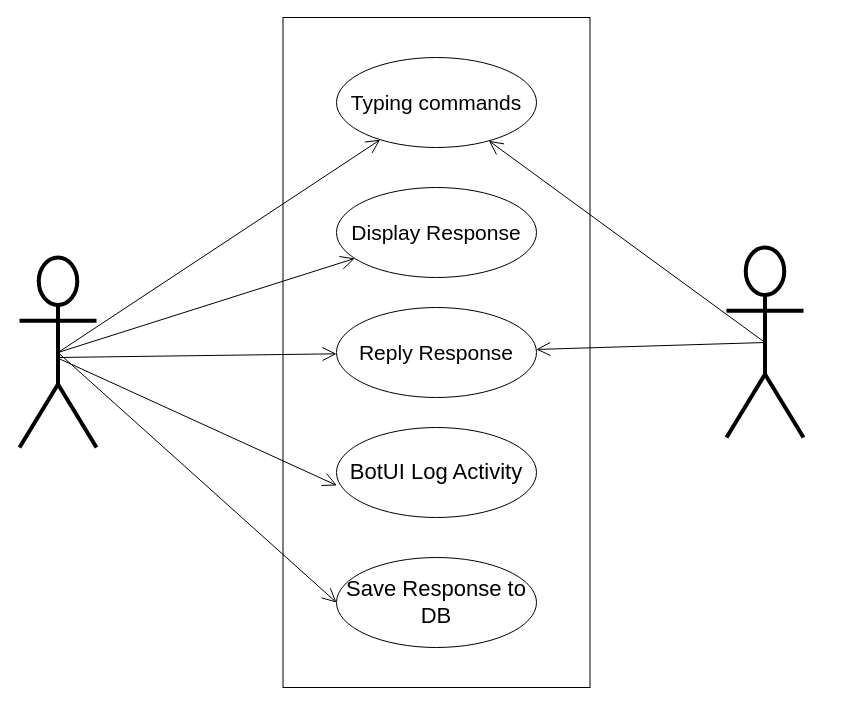
This 853x705 diagram has some shape labels left out. Each missing label, with the centre of its shape:
ChatBot: pixel 57 352
Users (Patient): pixel 764 342
